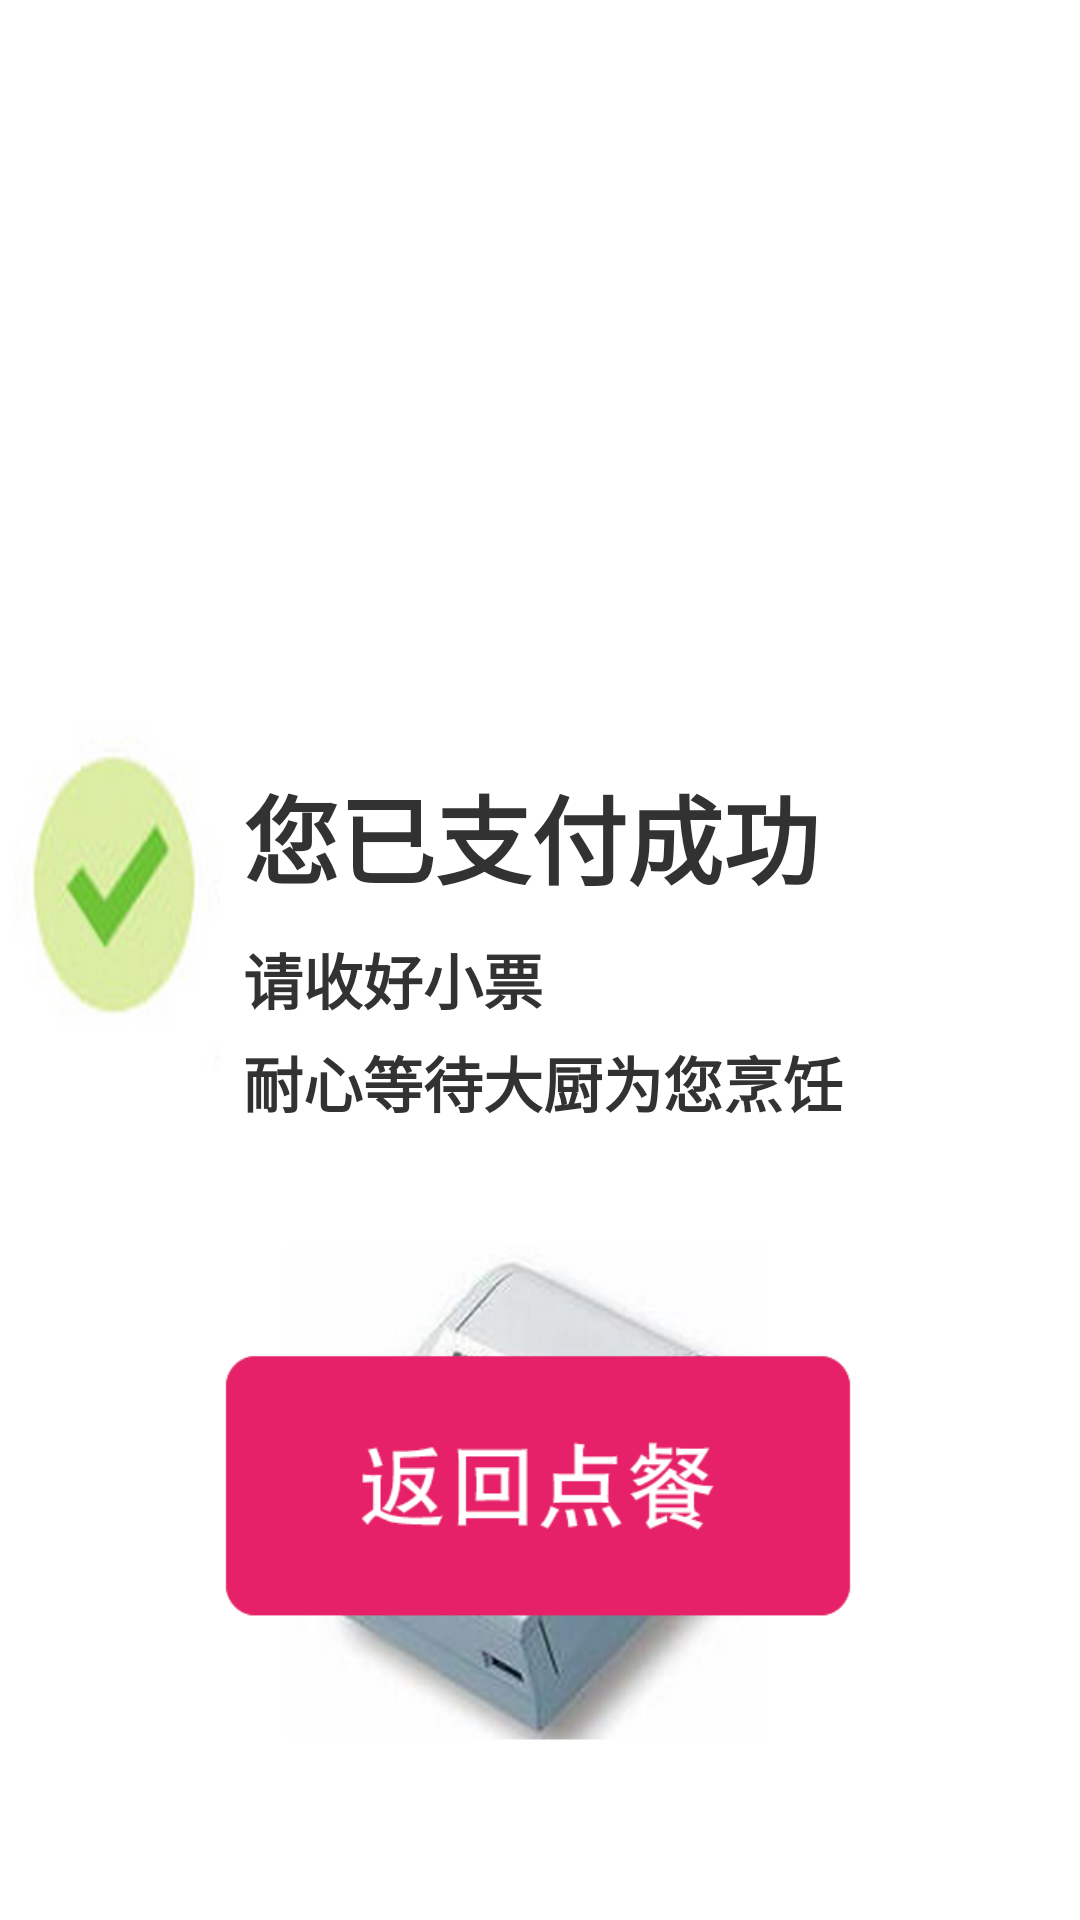

Icon click points for this 1080x1920 phone screenshot, format [x,y]:
paystate ok: [114,885]
